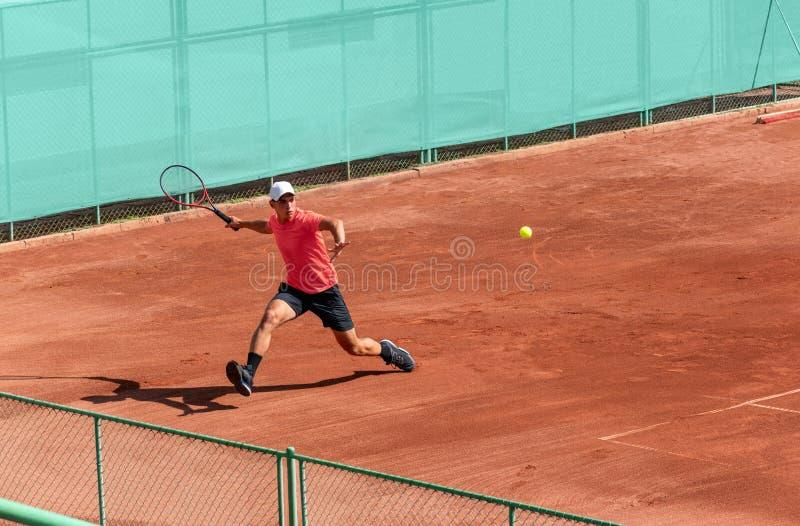ball_tennis: (521, 226, 532, 239)
